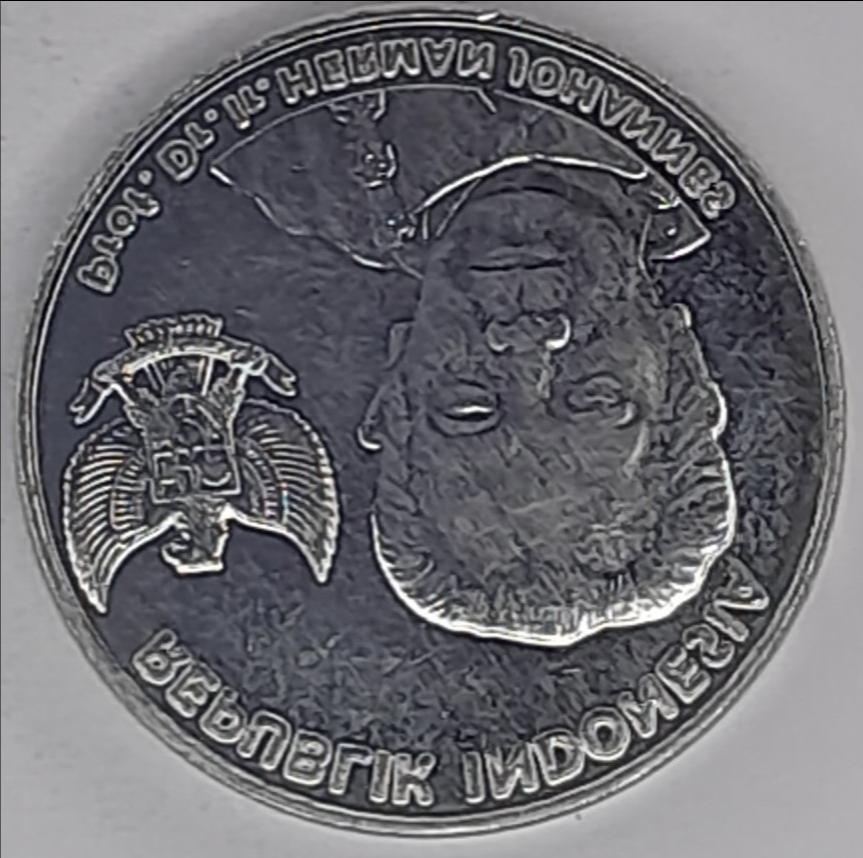coin_100_e2016: (11, 0, 852, 840)
